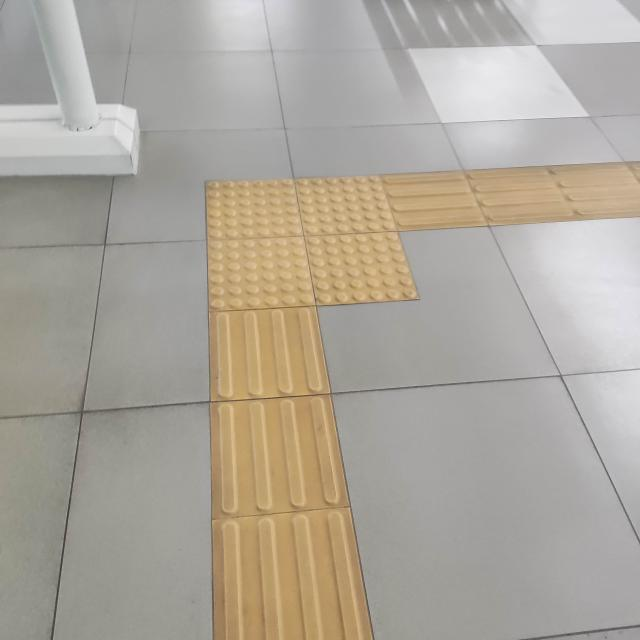kanan: (144, 119, 612, 368)
